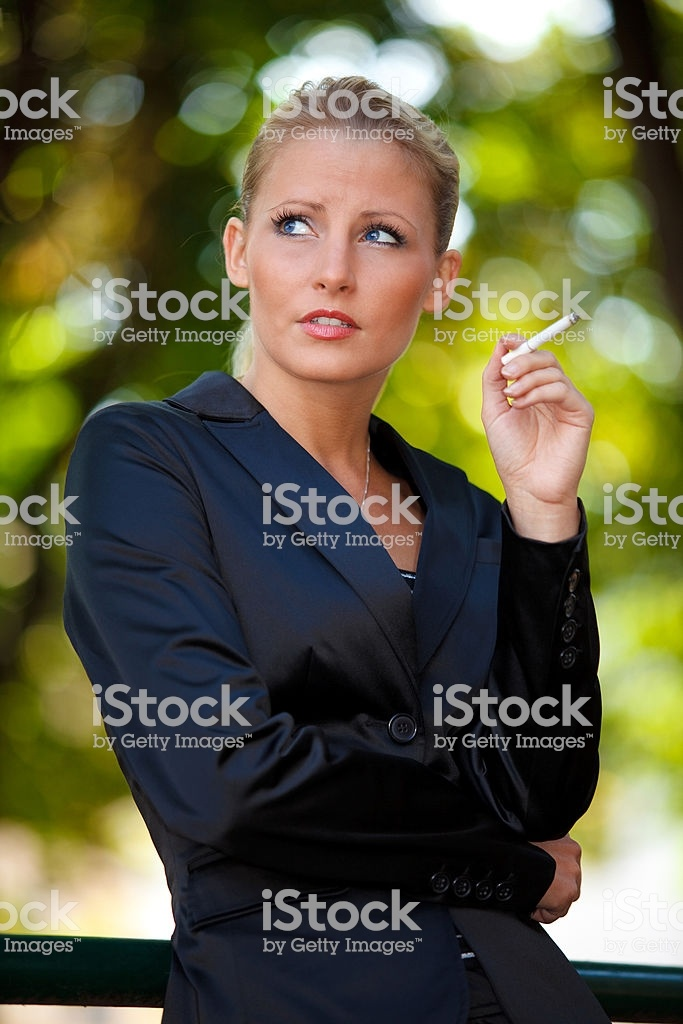sigaretta: (512, 305, 581, 369)
